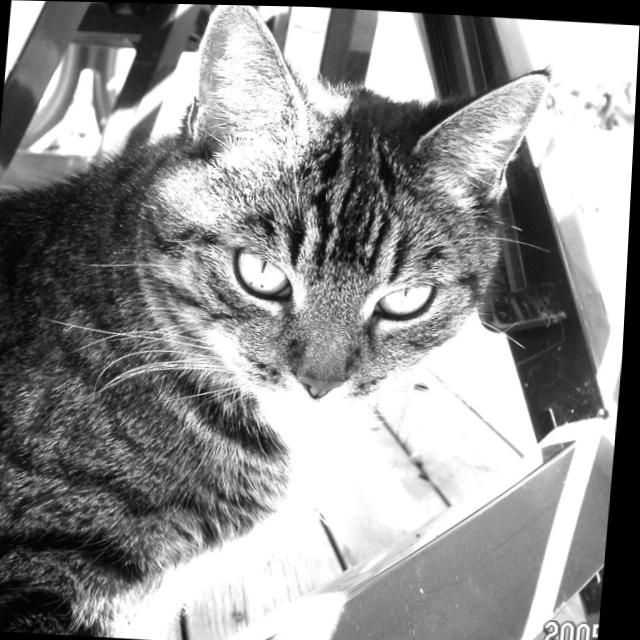animals: (173, 3, 550, 404)
